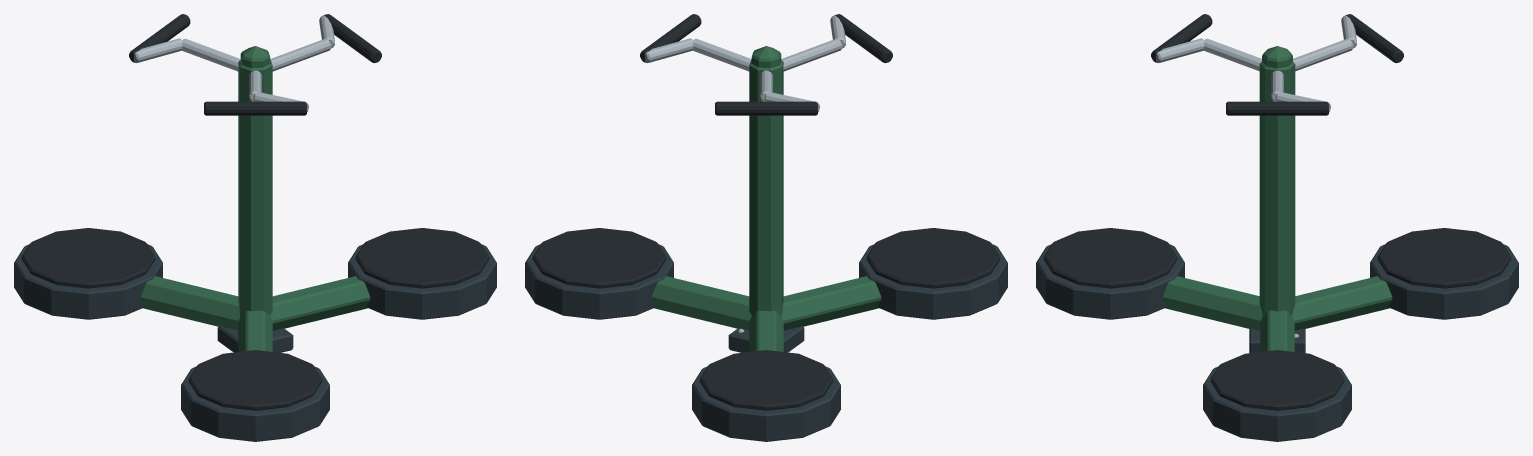
Rendered from b09_triple_twist_disc_station.glb.
3 renders of one model, left to right at view 1: azimuth 30°, elevation 25°; view 2: azimuth 150°, elevation 25°; view 3: azimuth 270°, elevation 25°, orthographic.
Visible parts, largest first — view 1: b09_triple_twist_disc_station; view 2: b09_triple_twist_disc_station; view 3: b09_triple_twist_disc_station.
Part boxes in pixels (box(x1,y1,x2,y2)): b09_triple_twist_disc_station: box(14, 14, 496, 441); b09_triple_twist_disc_station: box(525, 14, 1007, 441); b09_triple_twist_disc_station: box(1036, 14, 1518, 441).
Size of the model in its own units: 1.71 by 1.29 by 1.88.
